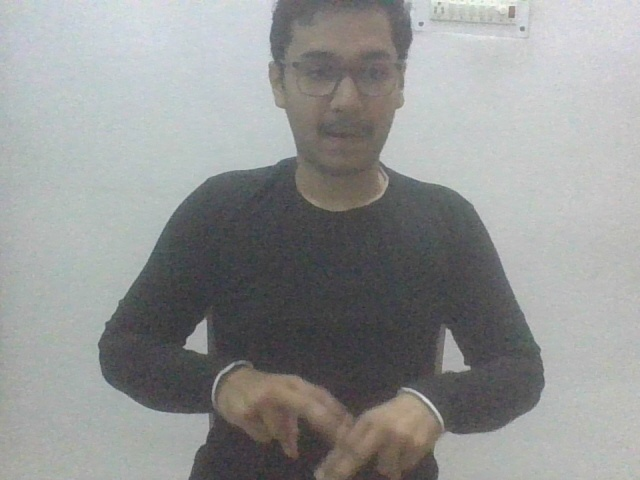F: (206, 358, 451, 480)
